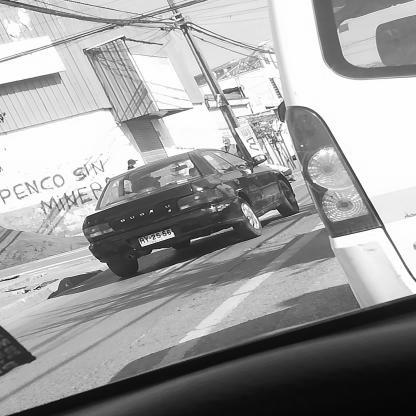Patente: (136, 226, 178, 250)
